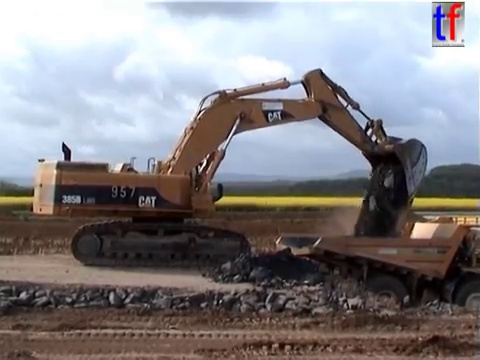excavator: (29, 65, 431, 270)
truck: (272, 214, 480, 326)
